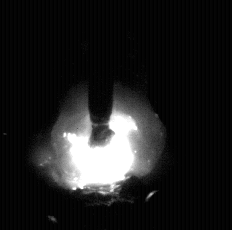arame: (89, 0, 114, 146)
poca: (50, 0, 166, 230)
